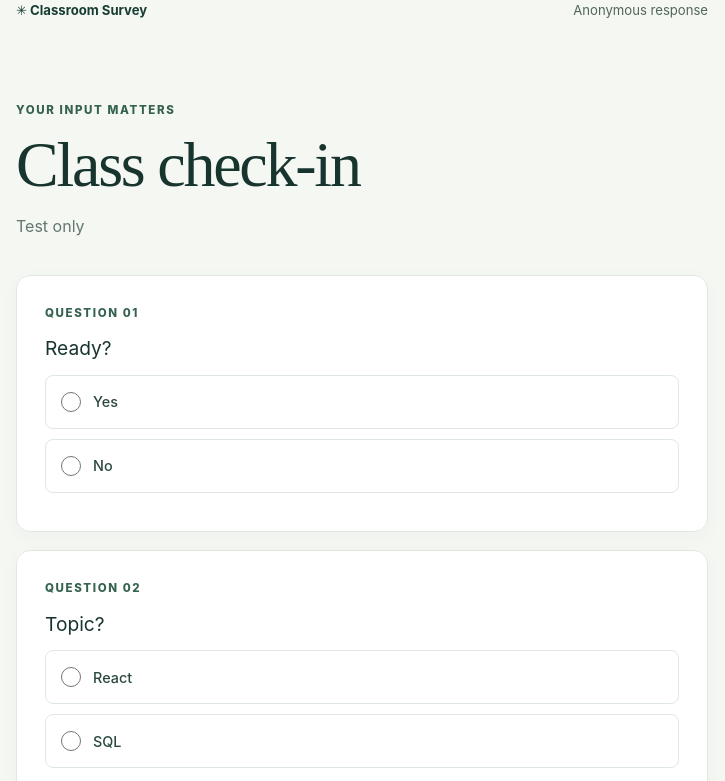
Test: student survey › shows a safe error for SURVEY_NOT_ACTIVE and enables retry
Click the radio button labelled "Yes": [71, 402] box 61,392 -> 81,412
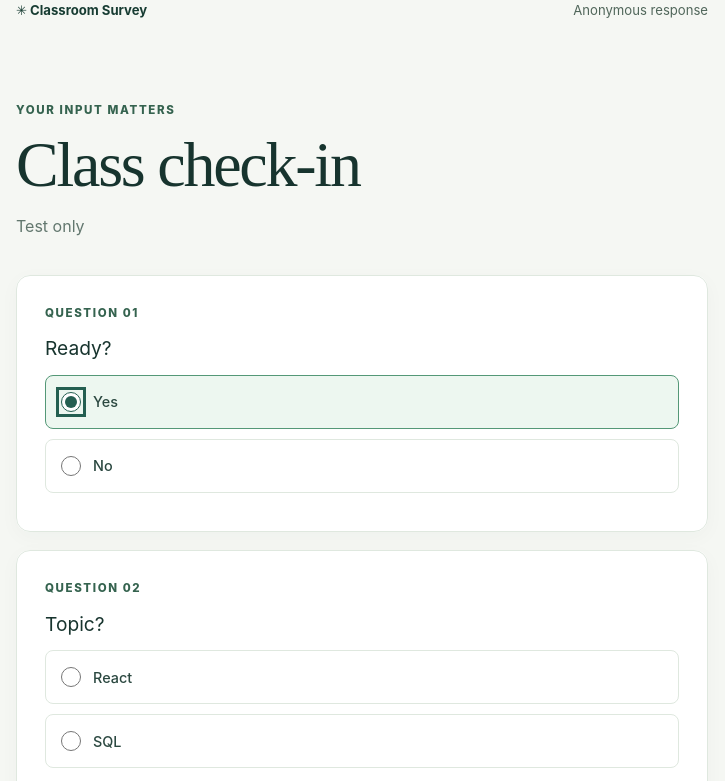
Click the radio button labelled "SQL": [71, 741] box 61,731 -> 81,751
(page scrolled)
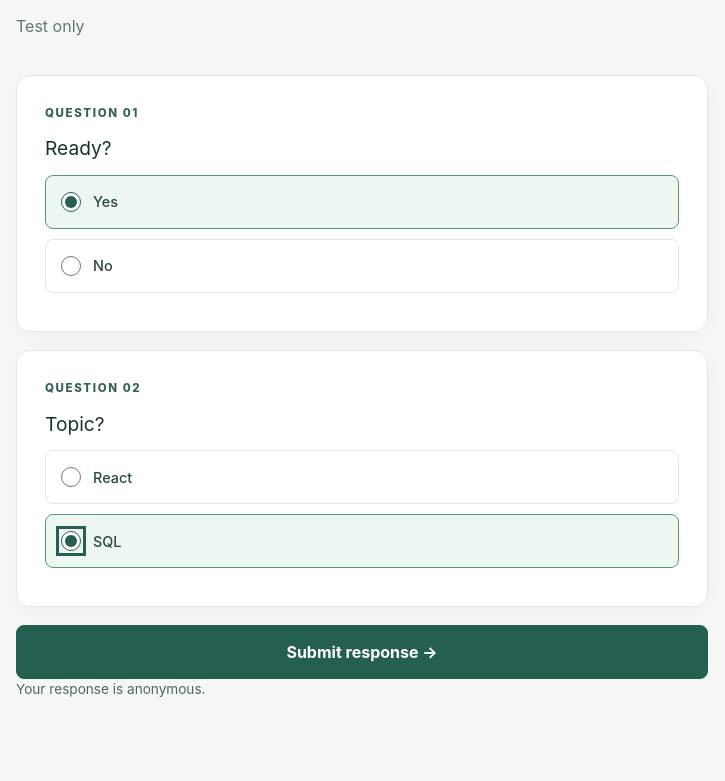
Click the button "Submit response →": [362, 652] box 16,625 -> 708,679
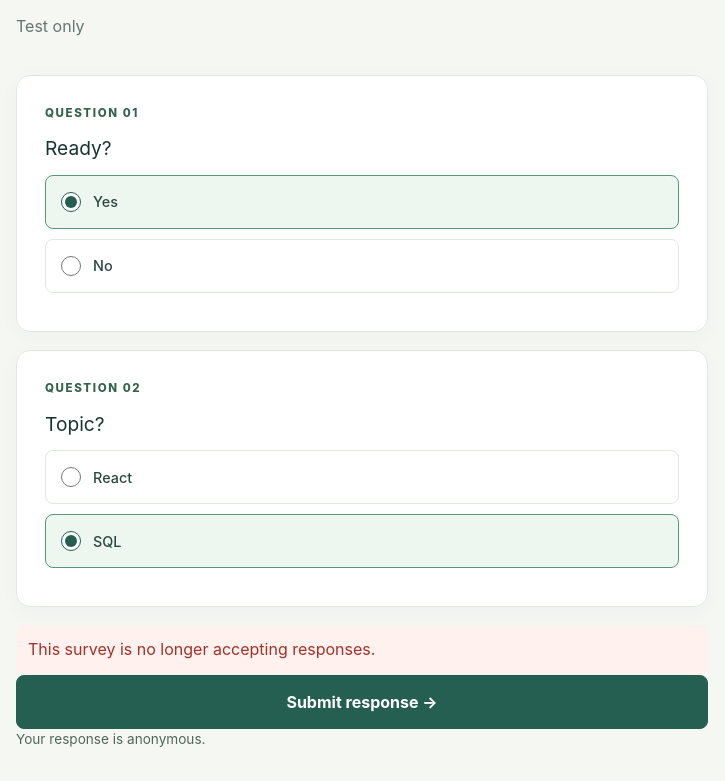
Expected: the button "Submit response →" is enabled, 16,675 -> 708,729
Now the message shows "no longer accepting responses", box 28,639 -> 375,659
